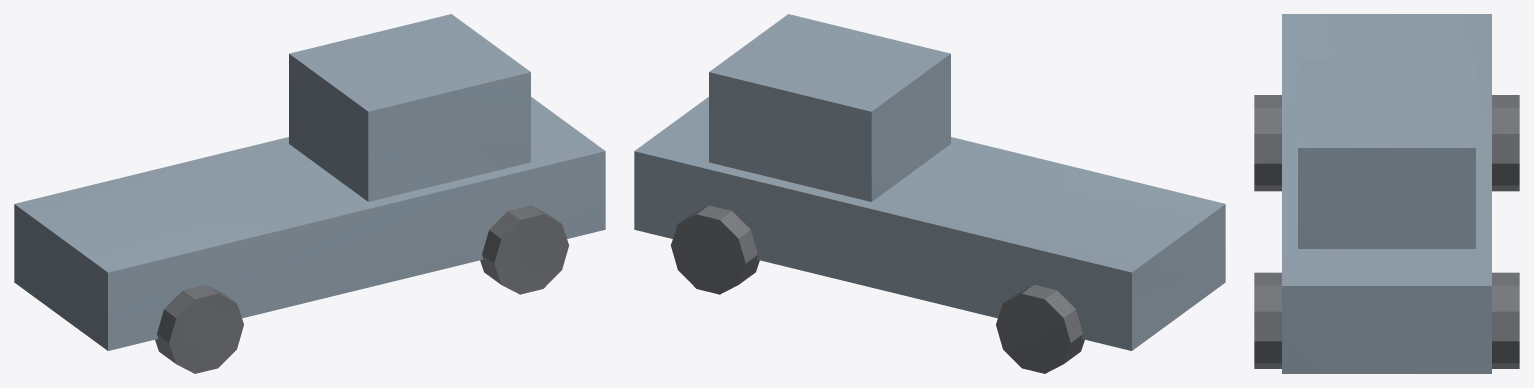
File: road_vehicle-04.glb
3 renders of one model, left to right at view 1: azimuth 30°, elevation 25°; view 2: azimuth 150°, elevation 25°; view 3: azimuth 270°, elevation 25°, orthographic. The views are drawn at different scales.
Visible parts, largest first — view 1: world; view 2: world; view 3: world.
Boxes of the visible parts, <box> form: world: <box>14,14,605,373</box>; world: <box>634,14,1225,373</box>; world: <box>1254,14,1519,373</box>.
Size of the model in its own units: 1.99 by 0.7677 by 0.82.
